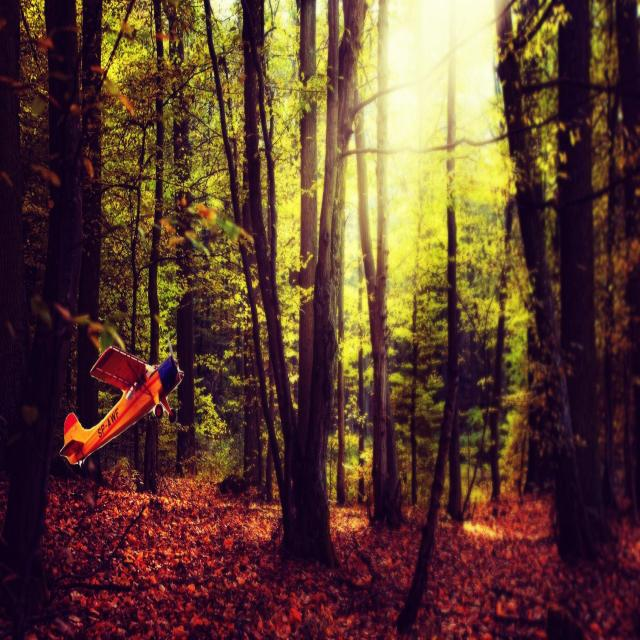airplane: (59, 339, 184, 468)
